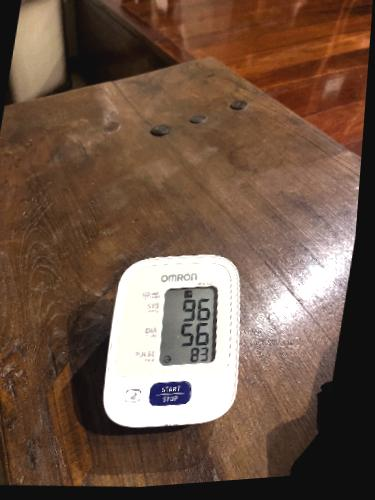bpm: (154, 281, 217, 368)
